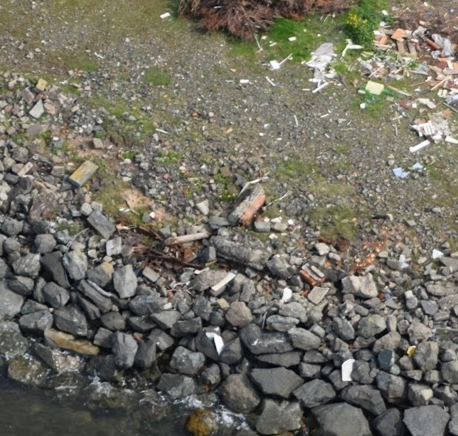scattered_barrel: (220, 25, 304, 97)
together_barrel: (298, 13, 458, 187)
white_in_green: (318, 342, 376, 396), (193, 316, 251, 370), (139, 1, 190, 36)
